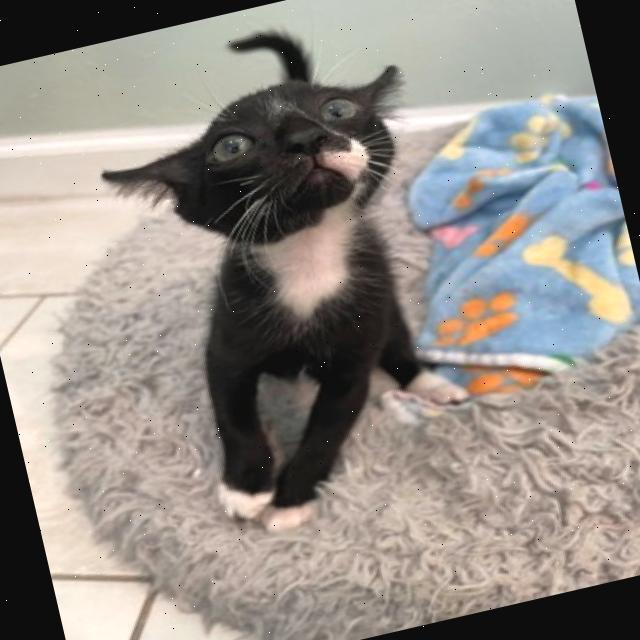domestic_short_hair_cat: (80, 39, 454, 306)
